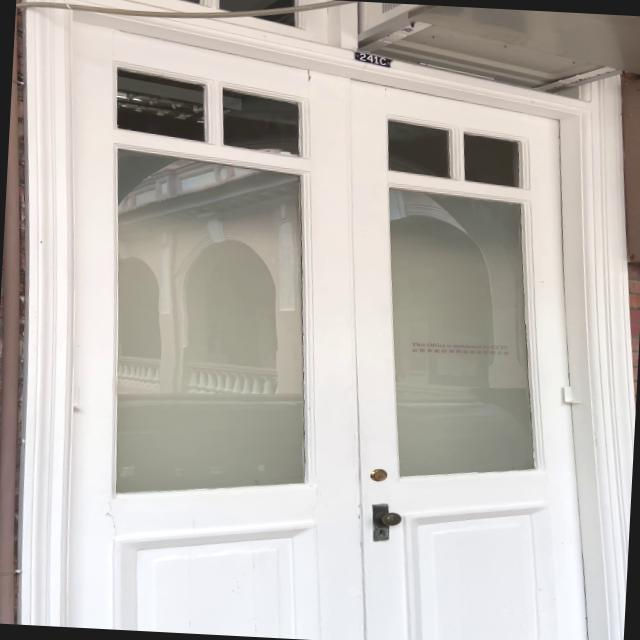room241c: (349, 49, 394, 70)
